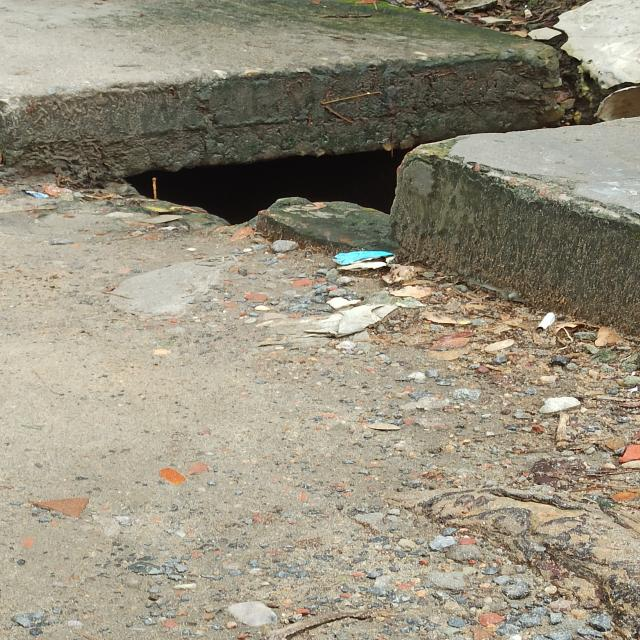drain_inlet: (4, 48, 640, 256)
